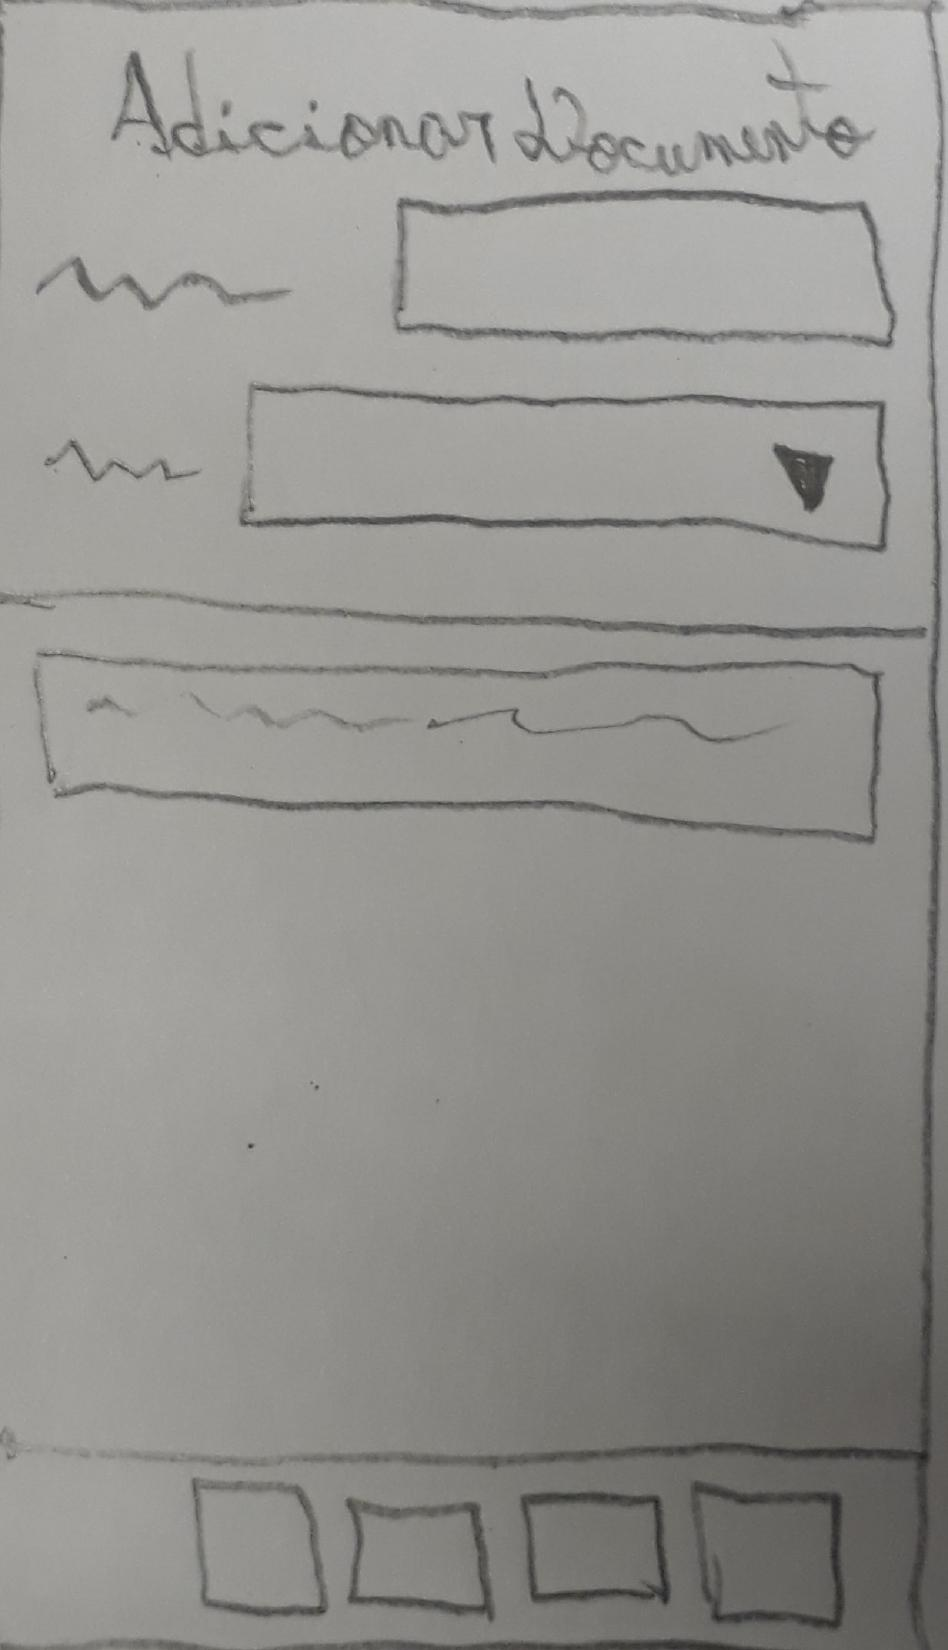Button: (28, 647, 888, 841)
Label: (111, 48, 882, 175), (32, 254, 292, 313), (45, 441, 200, 485)
ListPicker: (232, 379, 896, 554)
Screen: (3, 5, 946, 1645)
TextBox: (385, 194, 900, 350)
